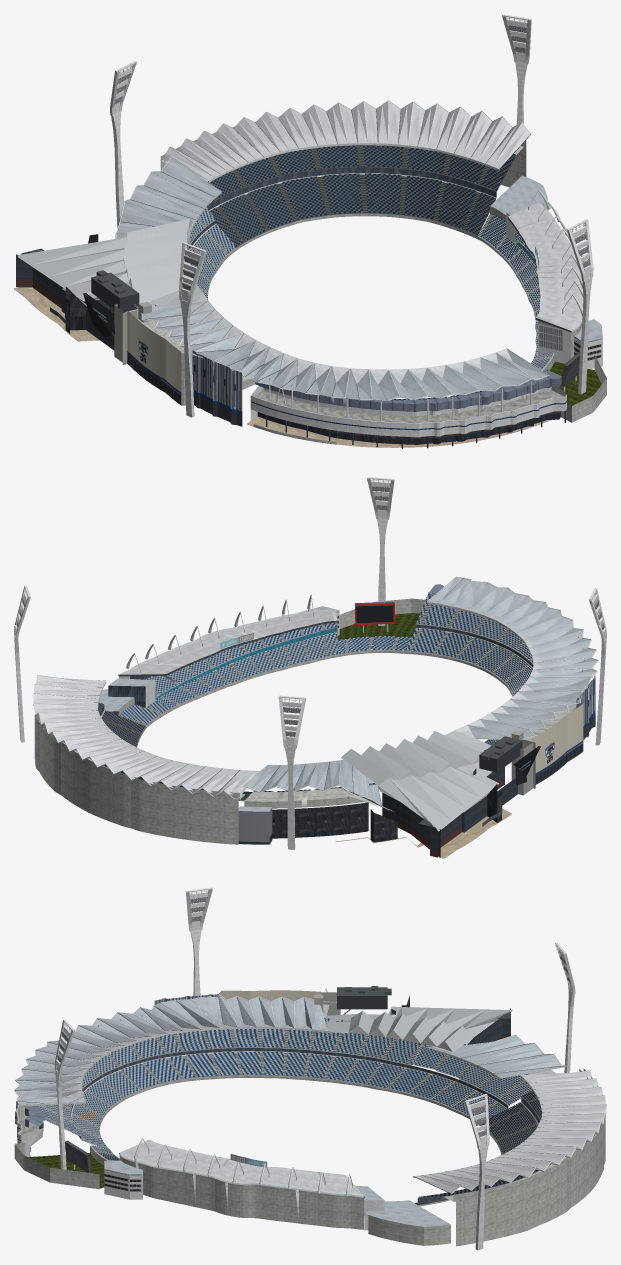
3 views of the same model, one above another, from view 1: azimuth 30°, elevation 25°; view 2: azimuth 150°, elevation 25°; view 3: azimuth 270°, elevation 25° (orthographic). The views are drawn at different scales.
Parts seen in each view (by area): view 1: gmhba, jss_roof; view 2: gmhba, jss_roof; view 3: gmhba, jss_roof.
Boxes of the visible parts, <box> form: gmhba: <box>14,14,606,448</box>; jss_roof: <box>16,218,202,364</box>; gmhba: <box>14,477,606,858</box>; jss_roof: <box>341,730,540,857</box>; gmhba: <box>14,887,606,1250</box>; jss_roof: <box>314,986,512,1065</box>.
Size of the model in its own units: 236 by 74.7 by 269.
44 materials, 44 textured.
